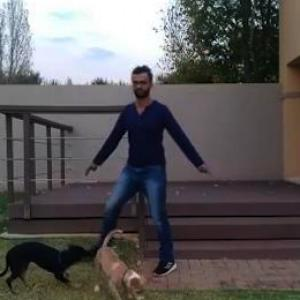land: (97, 82, 216, 277)
